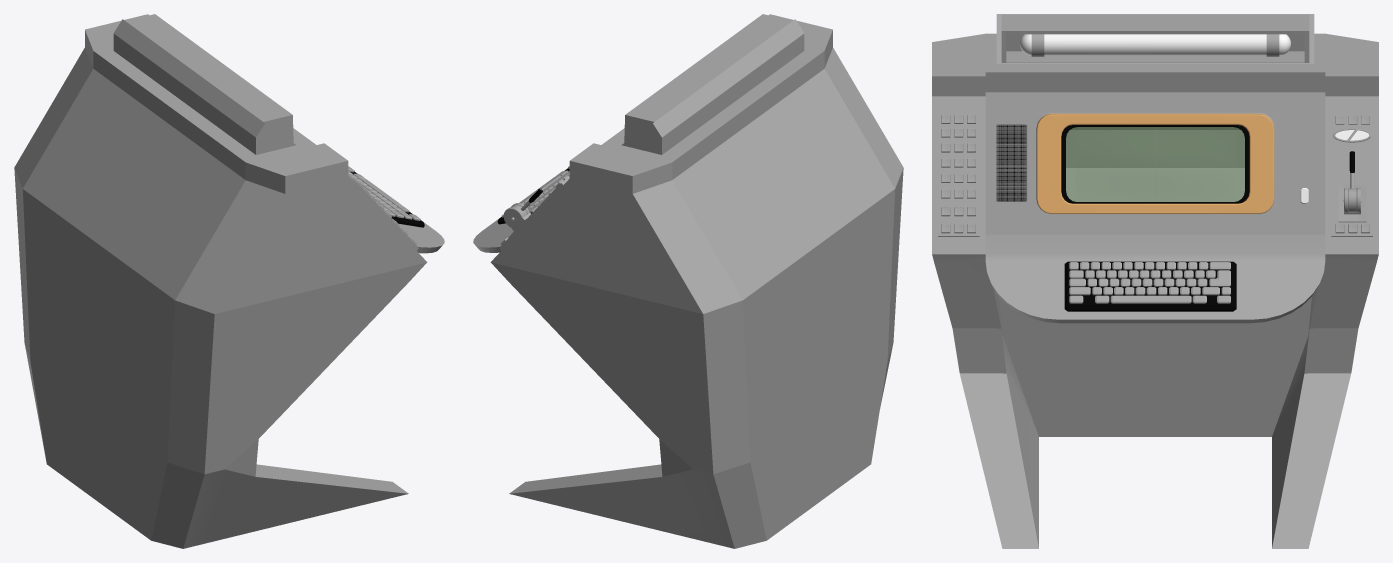
The model's file is Lost Robot Console Standing.fbx.
3 views of the same model, side by side, from view 1: azimuth 30°, elevation 25°; view 2: azimuth 150°, elevation 25°; view 3: azimuth 270°, elevation 25° (orthographic). The views are drawn at different scales.
Visible parts, largest first — view 1: Console1, pCube112; view 2: Console1, pCube112; view 3: Console1, pCube112, Light, pCube113, pCube2, pCube11, pCylinder79, Light_Housing.
Boxes of the visible parts, left/top/right/bottom form: Console1: left=14, top=14, right=444, bottom=548; pCube112: left=348, top=166, right=420, bottom=220; Console1: left=473, top=14, right=903, bottom=548; pCube112: left=502, top=166, right=569, bottom=217; Console1: left=932, top=14, right=1378, bottom=548; pCube112: left=1069, top=262, right=1230, bottom=303; Light: left=1020, top=34, right=1290, bottom=55; pCube113: left=1064, top=261, right=1236, bottom=311; pCube2: left=991, top=119, right=1031, bottom=205; pCube11: left=941, top=115, right=1369, bottom=233; pCylinder79: left=996, top=124, right=1026, bottom=201; Light_Housing: left=1031, top=34, right=1279, bottom=56.
Size of the model in its own units: 8.23 by 10.92 by 9.72.
